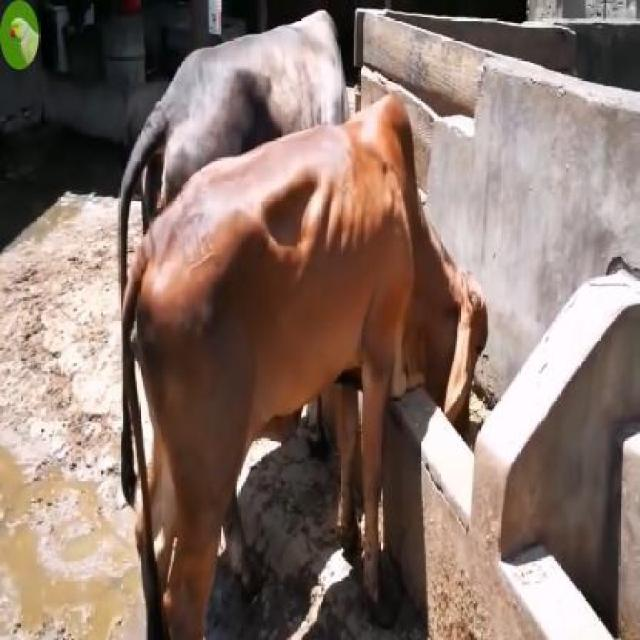Cow: (118, 97, 491, 638)
